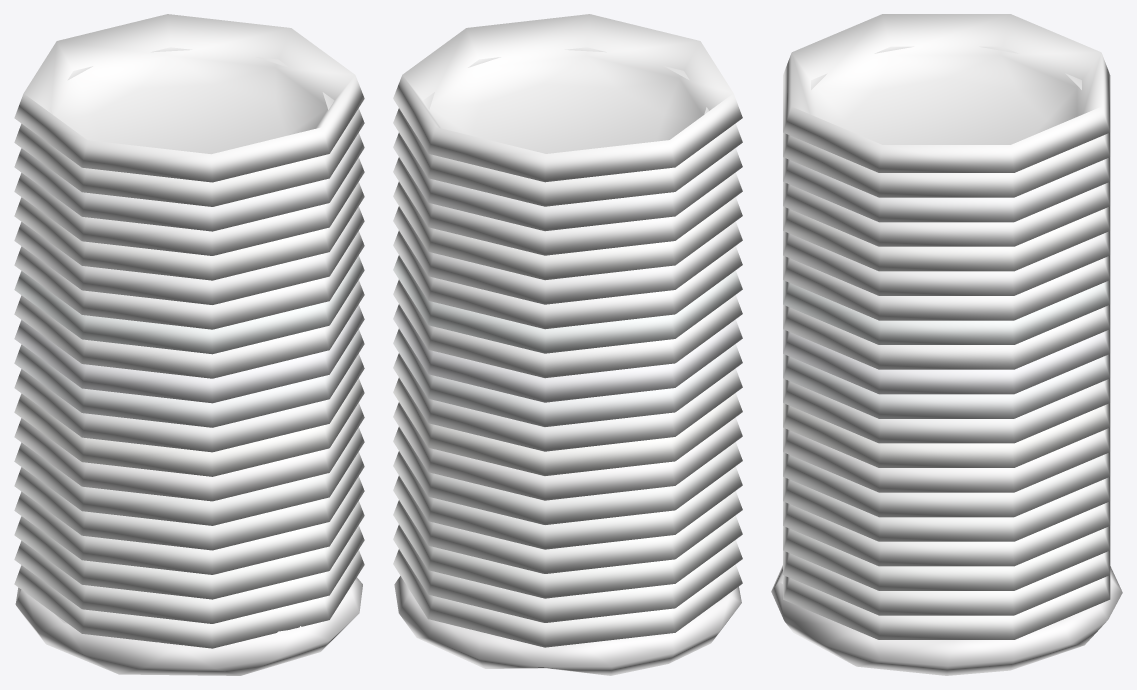
The model's file is Plates LOD1.fbx.
3 renders of one model, left to right at view 1: azimuth 30°, elevation 25°; view 2: azimuth 150°, elevation 25°; view 3: azimuth 270°, elevation 25°, orthographic.
Parts seen in each view (by area): view 1: Circle.017; view 2: Circle.017; view 3: Circle.017.
Boxes of the visible parts, x1,y1,x2,y2 form: Circle.017: [14, 14, 364, 675]; Circle.017: [393, 14, 742, 675]; Circle.017: [771, 14, 1122, 675].
Size of the model in its own units: 23.15 by 38.29 by 23.15.
